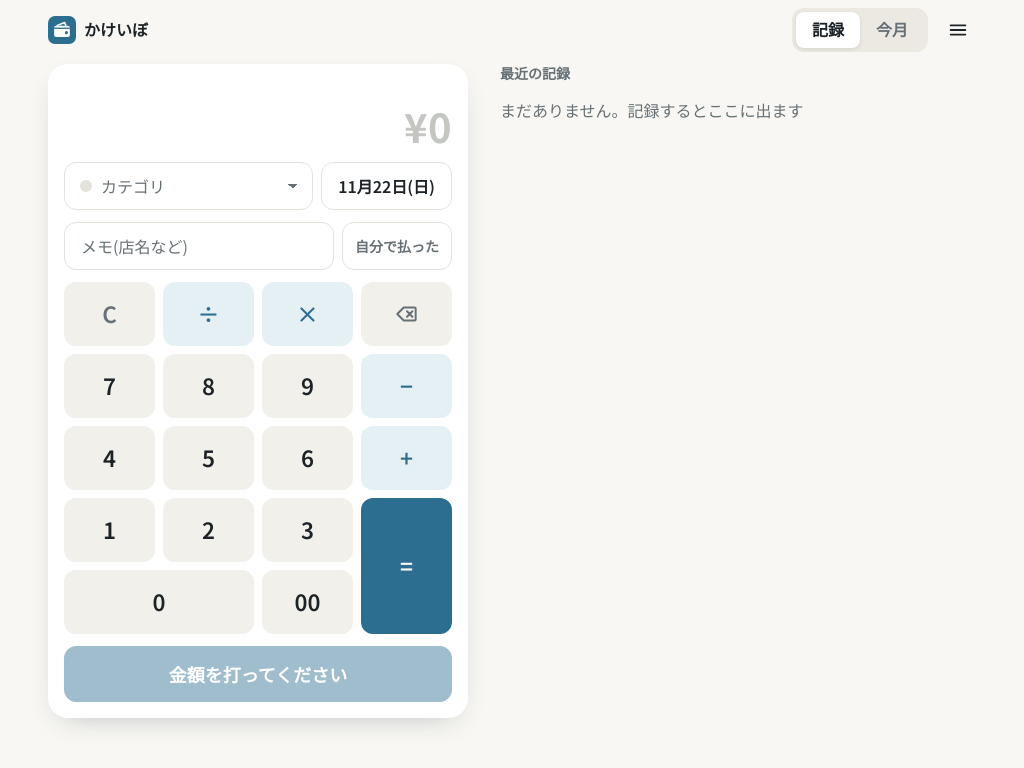
Test: 今月 › 予算の画面を開いたあとで予算が届いても、触っていない欄を空で上書きしない
The width and height of the screenshot is (1024, 768).
Click the button named "メニュー" at x=958, y=30, box [936,8,980,52]
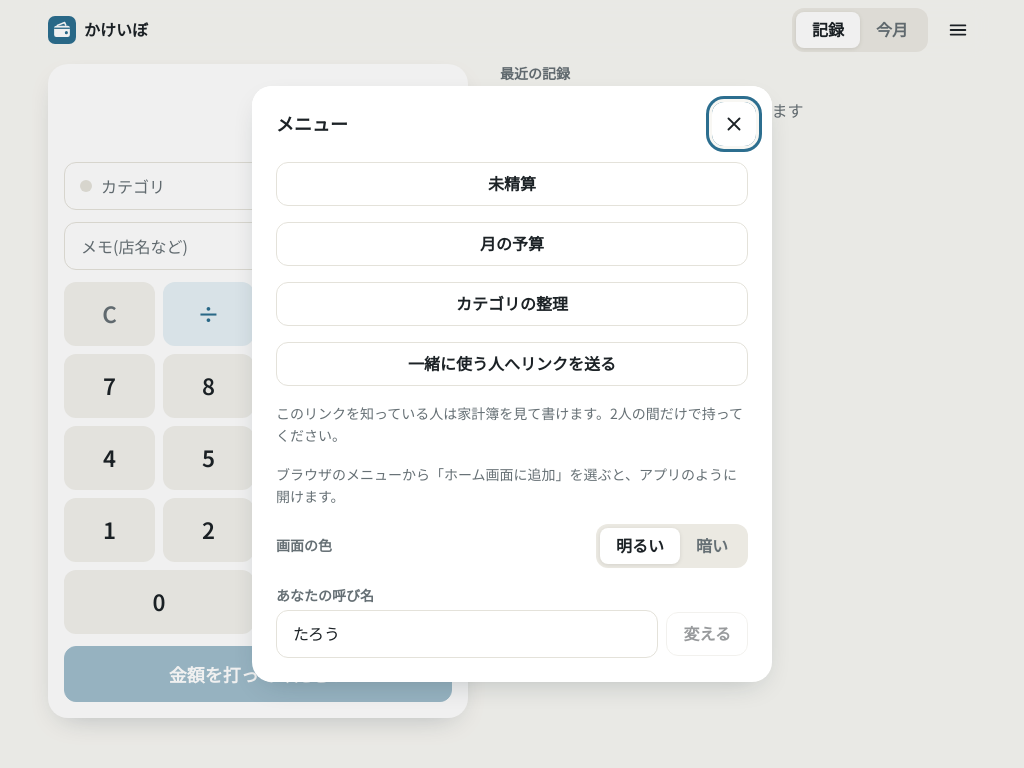
Click the button "月の予算" at x=512, y=244, box [276,222,748,266]
Wait 300 ms
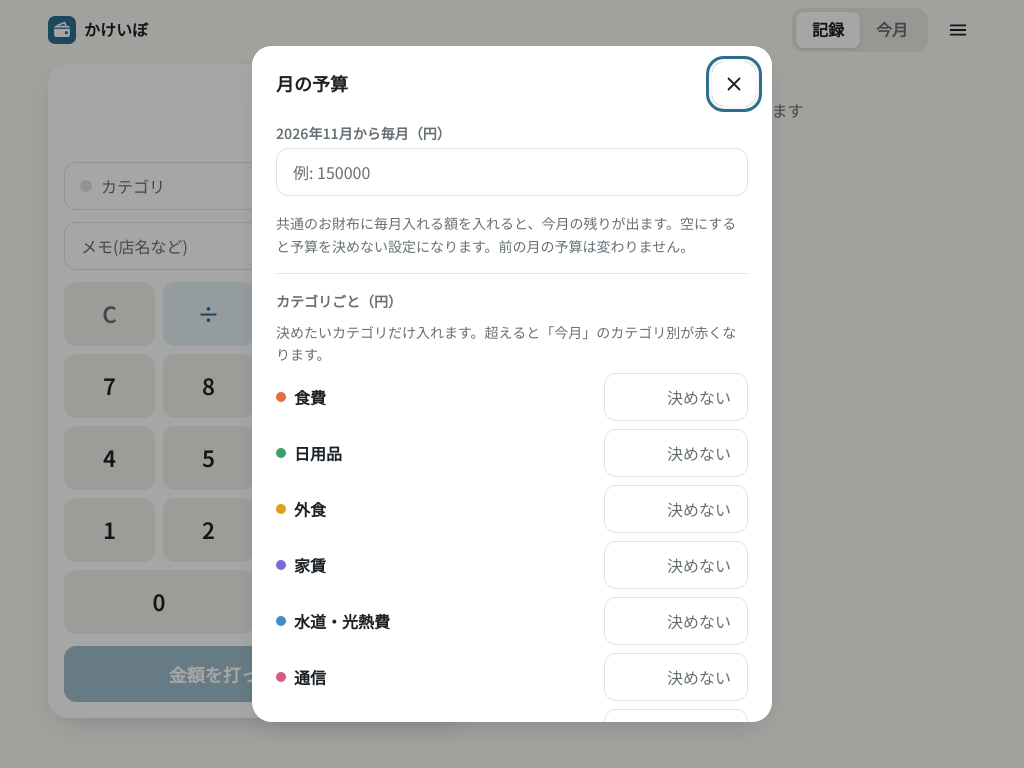
Expected: the heading "月の予算" is shown, [276,72,348,96]
